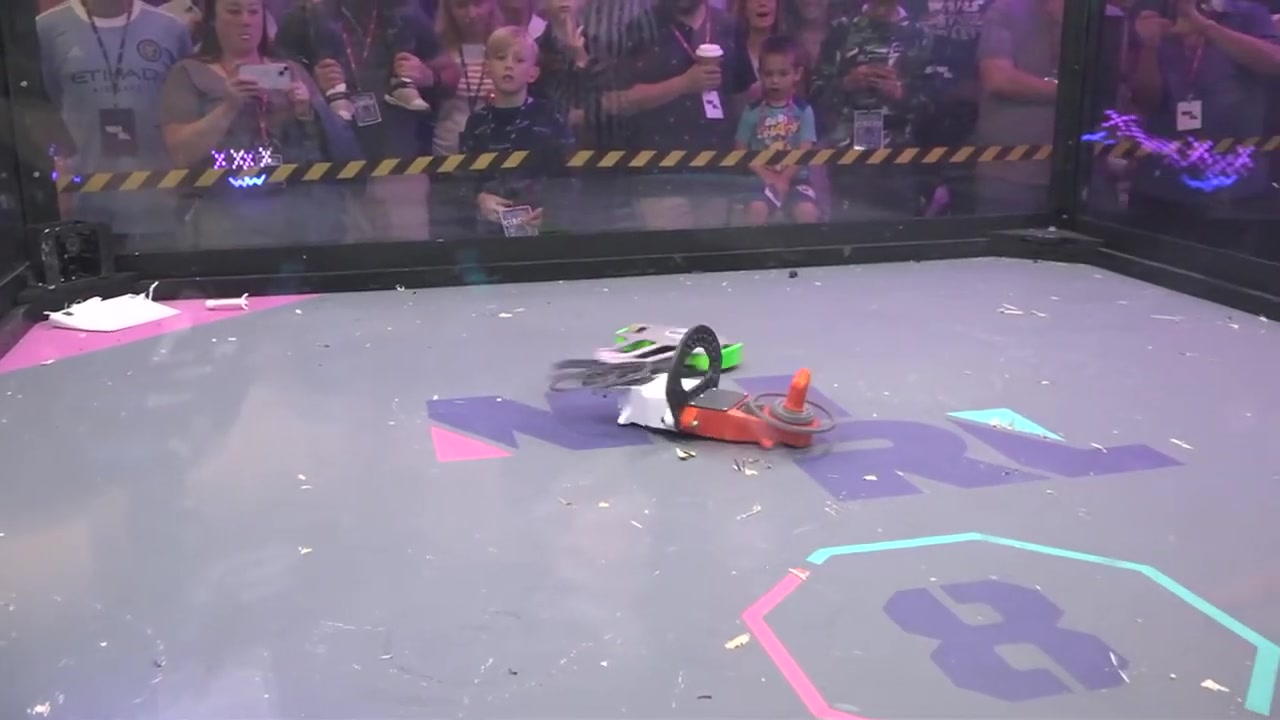combatbot: (550, 324, 839, 456), (546, 322, 740, 398)
debris: (203, 293, 249, 312)
minibot: (45, 293, 176, 333)
